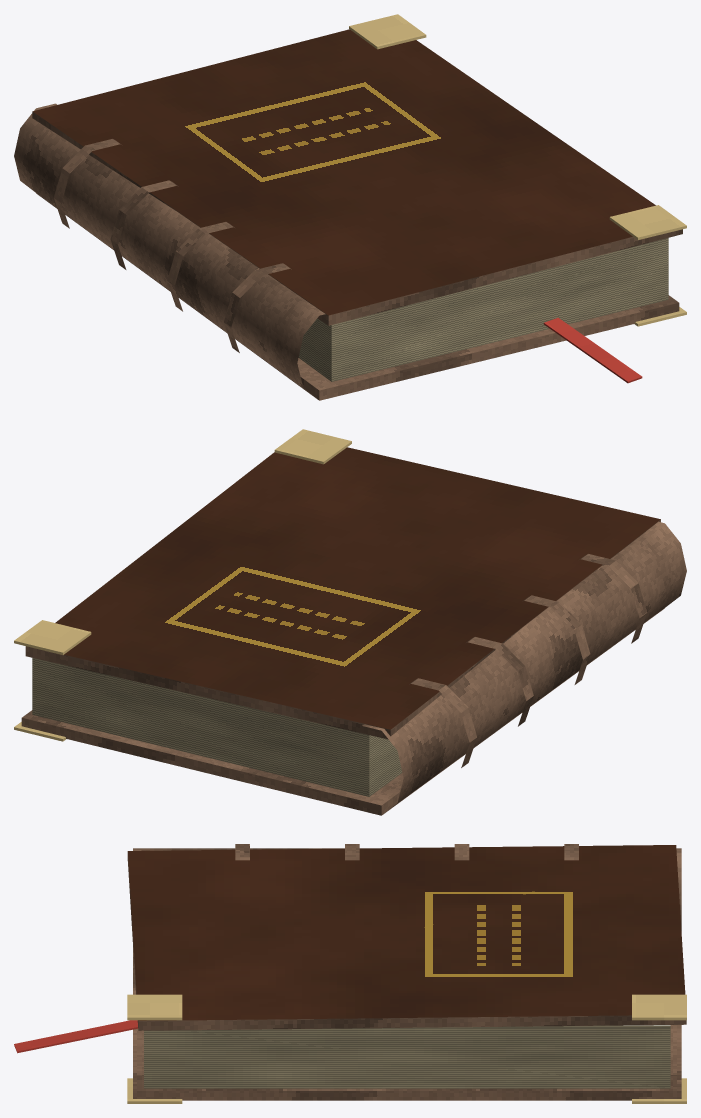
The model's file is item_ledger.glb.
3 views of the same model, one above another, from view 1: azimuth 30°, elevation 25°; view 2: azimuth 150°, elevation 25°; view 3: azimuth 270°, elevation 25° (orthographic). The views are drawn at different scales.
Parts seen in each view (by area): view 1: ledger; view 2: ledger; view 3: ledger.
Boxes of the visible parts, x1=… form: ledger: x1=14, y1=14, x2=686, y2=400; ledger: x1=14, y1=429, x2=686, y2=815; ledger: x1=14, y1=844, x2=686, y2=1103.
Bounding box in the file's own units: 0.2454 × 0.0527 × 0.3681.
Materials: 6 (6 with a texture image).
